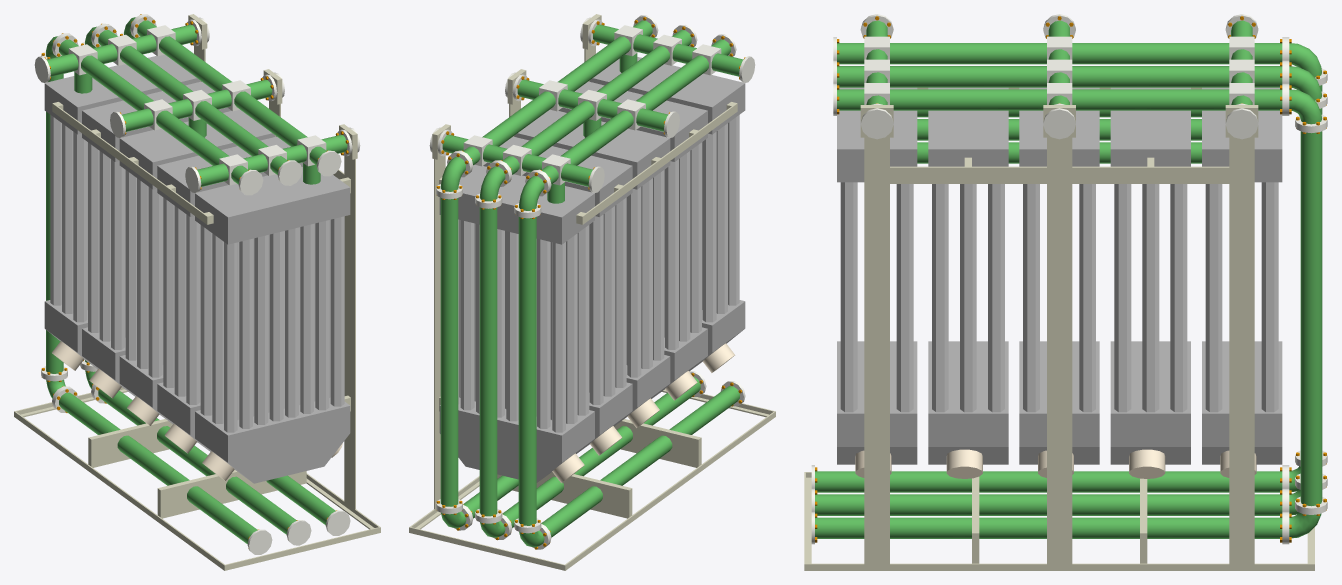
Rendered from LiquidGasTank_CoolingLoop.fbx.
3 renders of one model, left to right at view 1: azimuth 30°, elevation 25°; view 2: azimuth 150°, elevation 25°; view 3: azimuth 270°, elevation 25°, orthographic. The views are drawn at different scales.
Parts seen in each view (by area): view 1: LiquidGasTank_CoolingLoop; view 2: LiquidGasTank_CoolingLoop; view 3: LiquidGasTank_CoolingLoop.
Part boxes in pixels (<box>): LiquidGasTank_CoolingLoop: <box>14,14,380,570</box>; LiquidGasTank_CoolingLoop: <box>409,14,775,570</box>; LiquidGasTank_CoolingLoop: <box>804,14,1327,570</box>.
Size of the model in its own units: 310 by 700 by 717.
